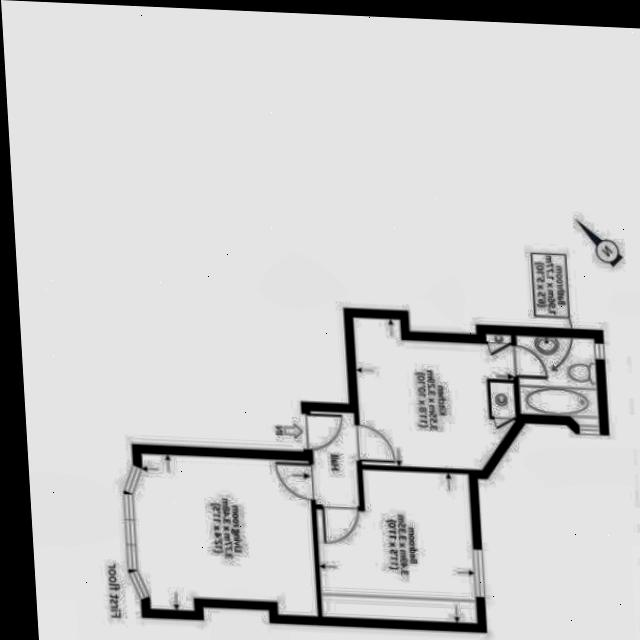room: (127, 454, 324, 617), (311, 468, 483, 623), (348, 319, 518, 470), (514, 331, 598, 435), (310, 409, 358, 509)
